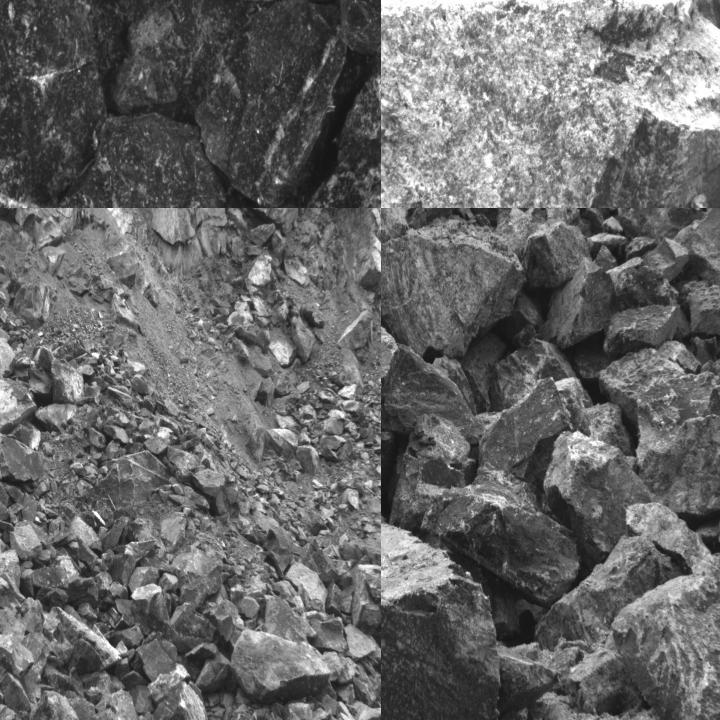stone: (381, 0, 719, 207), (83, 0, 346, 207), (24, 110, 262, 207), (0, 0, 108, 207), (381, 531, 498, 719), (253, 37, 380, 207), (381, 220, 525, 359), (420, 483, 579, 603), (612, 571, 719, 719), (532, 533, 665, 647), (542, 430, 642, 566), (599, 345, 711, 459), (381, 346, 488, 440), (389, 414, 473, 529), (477, 380, 571, 481), (639, 411, 719, 516), (230, 629, 331, 701), (624, 502, 718, 572), (544, 263, 618, 348), (489, 346, 574, 413), (51, 605, 121, 676), (90, 450, 172, 510), (116, 584, 183, 650), (527, 221, 590, 289), (500, 648, 562, 716), (604, 302, 681, 356), (565, 648, 627, 714), (678, 208, 719, 301), (0, 411, 53, 481), (171, 546, 222, 608), (618, 208, 701, 243), (614, 266, 679, 308), (341, 565, 380, 631), (264, 596, 317, 642), (137, 632, 185, 682), (0, 371, 36, 436), (643, 236, 692, 282), (68, 690, 144, 719), (284, 562, 328, 612), (683, 281, 719, 339), (154, 680, 206, 719), (171, 604, 215, 650), (300, 610, 348, 652), (41, 613, 73, 669), (0, 631, 38, 675), (198, 601, 235, 645), (28, 689, 82, 719), (52, 360, 84, 405), (265, 526, 292, 578), (406, 208, 466, 231), (344, 621, 380, 659), (27, 346, 52, 400), (81, 671, 124, 702), (32, 403, 77, 431), (10, 522, 44, 558), (324, 583, 354, 623), (381, 208, 413, 245), (195, 661, 233, 691), (1, 673, 29, 713), (191, 469, 226, 498), (0, 548, 23, 591), (0, 602, 26, 639), (102, 516, 131, 549), (311, 548, 338, 582), (9, 420, 41, 448), (316, 434, 346, 463), (128, 565, 158, 594), (33, 566, 69, 588), (111, 554, 134, 588), (296, 445, 321, 474), (0, 332, 16, 377), (576, 208, 612, 228), (311, 419, 344, 438), (144, 435, 171, 455), (158, 572, 178, 594), (83, 383, 100, 407), (60, 504, 76, 526), (174, 463, 192, 482)
